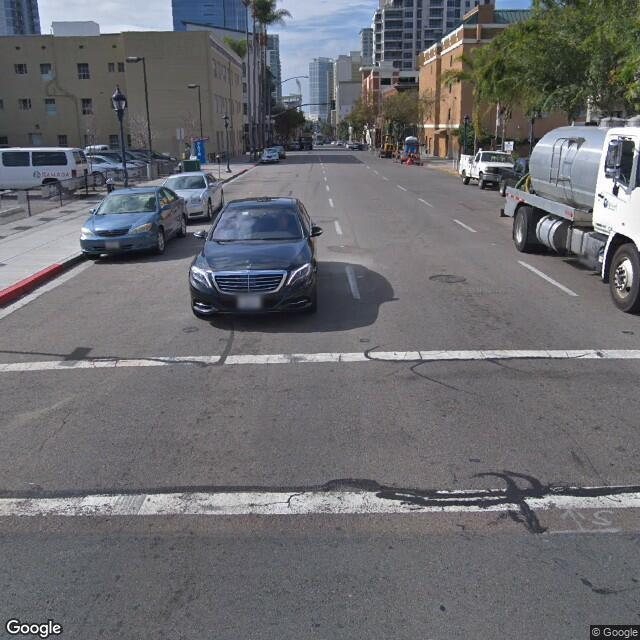road line: (330, 213, 365, 309), (413, 192, 476, 234)
